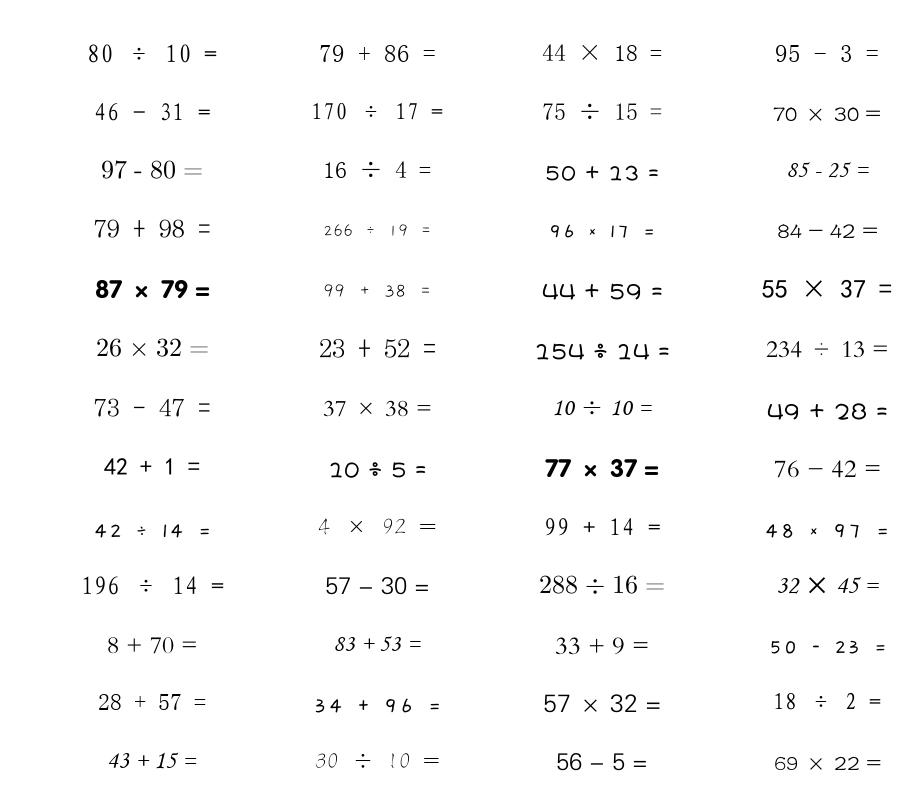MQ: (81, 576, 224, 595), (87, 44, 217, 63), (762, 279, 892, 298), (539, 575, 665, 594), (311, 102, 443, 120), (319, 338, 436, 358), (534, 343, 670, 360), (95, 279, 210, 299), (545, 458, 659, 478), (543, 694, 661, 713), (94, 219, 211, 238), (94, 398, 211, 417), (96, 338, 209, 357), (94, 103, 211, 121), (544, 518, 661, 536), (766, 341, 889, 358), (542, 283, 663, 300), (767, 403, 888, 420), (542, 44, 662, 61), (542, 103, 662, 120), (318, 518, 437, 535), (315, 753, 440, 769), (319, 45, 436, 62), (773, 692, 881, 710), (101, 160, 203, 179), (313, 698, 442, 713), (774, 460, 881, 478), (764, 523, 890, 538), (325, 577, 430, 595), (323, 400, 432, 417), (323, 161, 431, 178), (545, 165, 659, 181), (775, 45, 879, 62), (776, 577, 879, 594), (556, 752, 648, 771), (98, 694, 206, 710), (555, 637, 649, 655), (93, 524, 212, 538), (768, 640, 887, 654), (104, 458, 200, 475), (552, 400, 652, 416), (328, 462, 427, 478), (107, 637, 198, 654), (107, 752, 197, 769), (323, 284, 432, 298), (777, 224, 878, 239), (773, 107, 881, 121), (548, 224, 656, 238), (774, 756, 881, 770), (323, 224, 432, 237), (786, 162, 869, 178), (333, 636, 421, 651)
